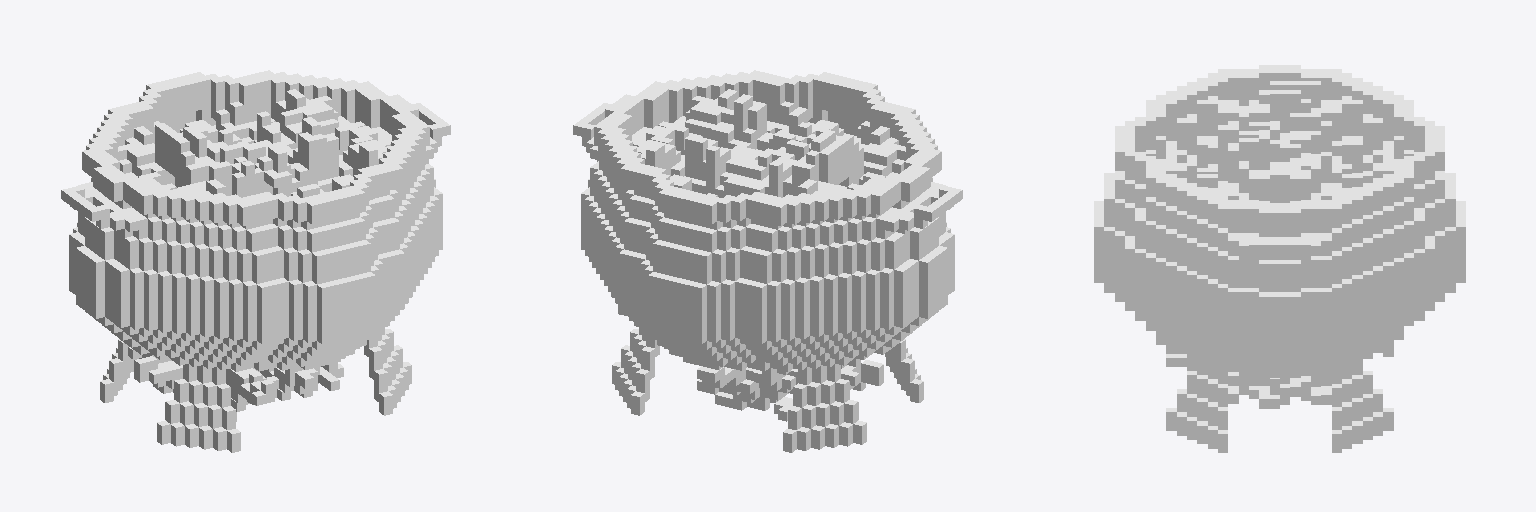
File: pot01.obj
3 renders of one model, left to right at view 1: azimuth 30°, elevation 25°; view 2: azimuth 150°, elevation 25°; view 3: azimuth 270°, elevation 25°, orthographic.
Parts seen in each view (by area): view 1: object 1; view 2: object 1; view 3: object 1.
Part boxes in pixels (bbox=[...]): object 1: bbox=[61, 70, 450, 452]; object 1: bbox=[573, 70, 962, 452]; object 1: bbox=[1094, 65, 1465, 452].
Bounding box in the file's own units: 4 × 2.9 × 3.6.